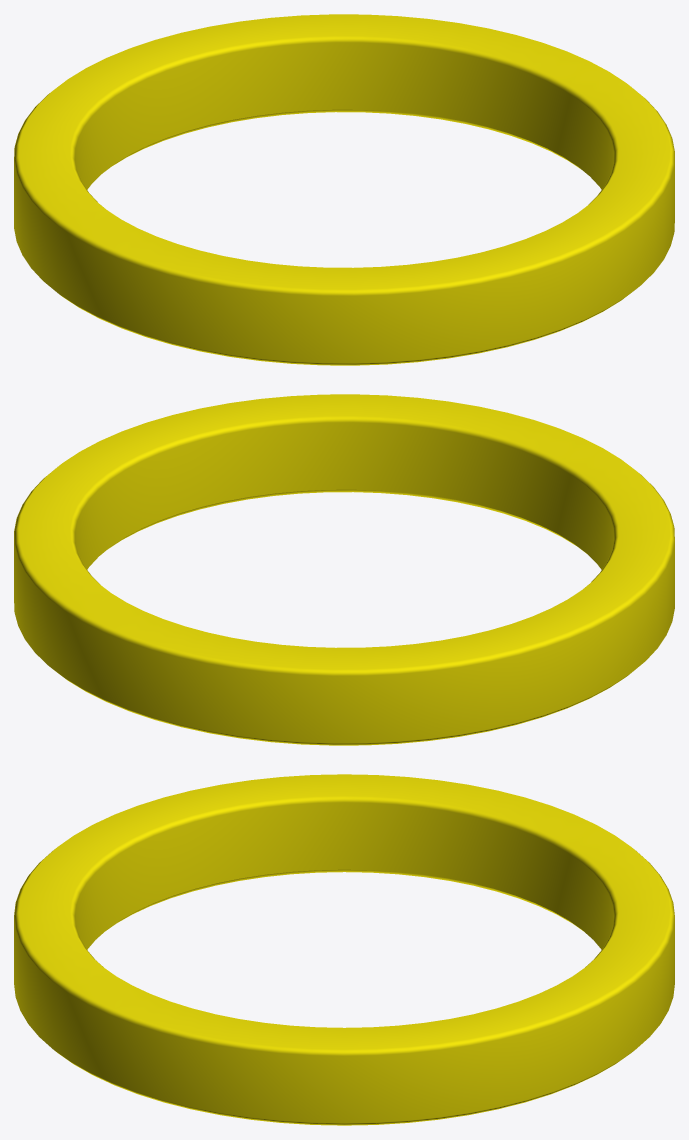
3 renders of one model, top to bottom at view 1: azimuth 30°, elevation 25°; view 2: azimuth 150°, elevation 25°; view 3: azimuth 270°, elevation 25°, orthographic.
Visible parts, largest first — view 1: seal_body; view 2: seal_body; view 3: seal_body.
Part boxes in pixels (x1,y1,x2,y2): seal_body: [14, 14, 674, 365]; seal_body: [14, 394, 674, 745]; seal_body: [14, 774, 674, 1125].
Size of the model in its own units: 0.0623 by 0.00793 by 0.0623.
